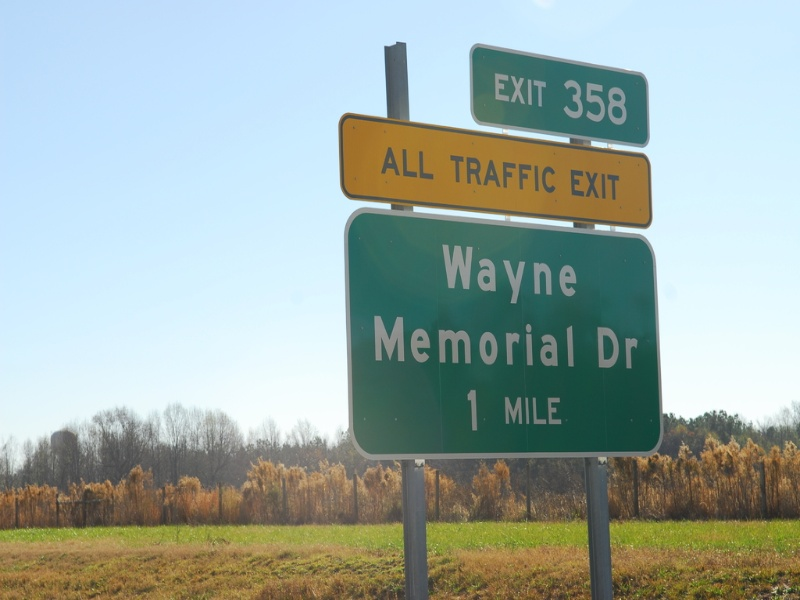all_traffic_exit: (334, 120, 649, 229)
